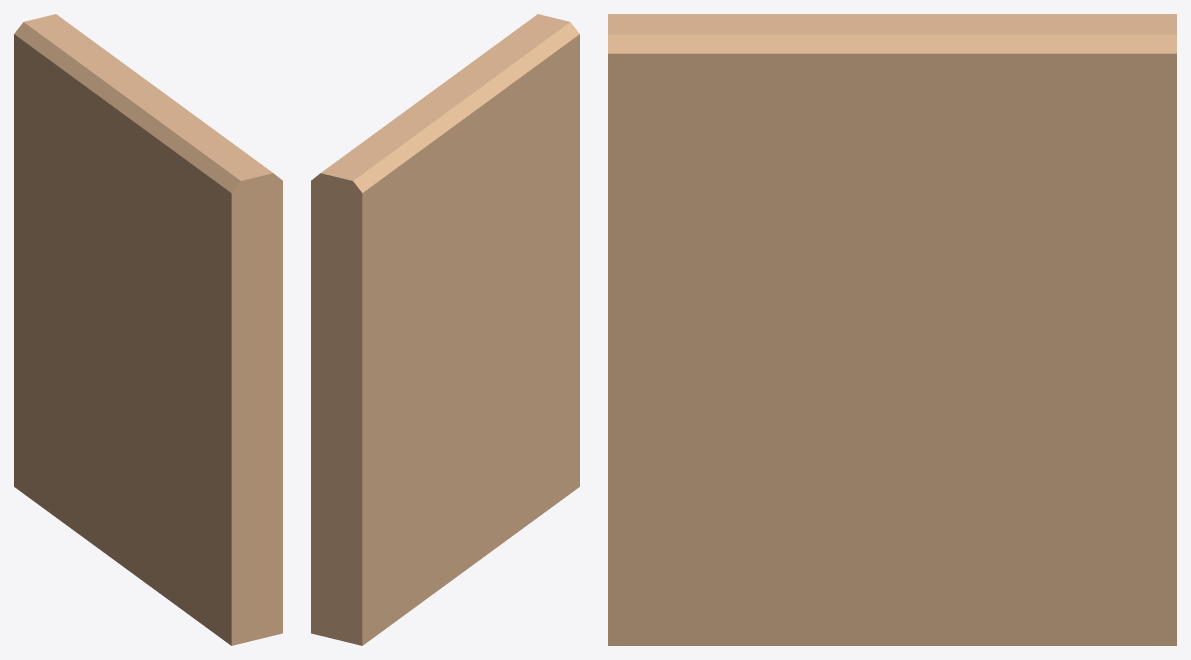
The model's file is Wall A.glb.
3 views of the same model, side by side, from view 1: azimuth 30°, elevation 25°; view 2: azimuth 150°, elevation 25°; view 3: azimuth 270°, elevation 25° (orthographic). The views are drawn at different scales.
Parts seen in each view (by area): view 1: Wall A; view 2: Wall A; view 3: Wall A.
Boxes of the visible parts, x1,y1,x2,y2 form: Wall A: [14, 14, 282, 645]; Wall A: [311, 14, 579, 645]; Wall A: [608, 14, 1176, 645].
Bounding box in the file's own units: 0.0553 × 0.4762 × 0.4056.
